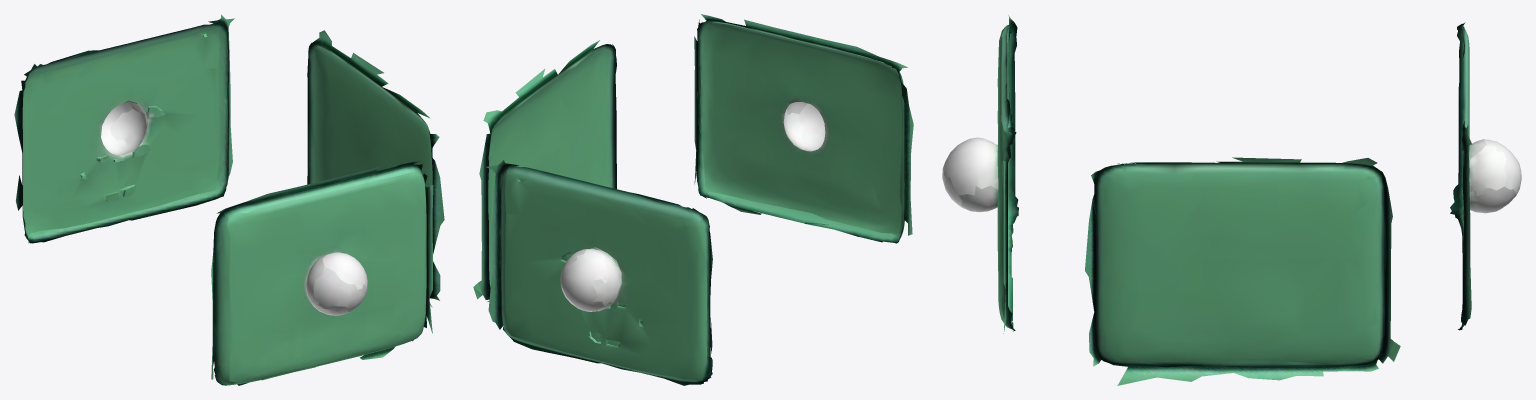
File: drawer_middle_right.glb
The picture shows the model from 3 angles, left to right: view 1: azimuth 30°, elevation 25°; view 2: azimuth 150°, elevation 25°; view 3: azimuth 270°, elevation 25°; orthographic projection. The views are drawn at different scales.
Visible parts, largest first — view 1: geometry_0; view 2: geometry_0; view 3: geometry_0.
Part boxes in pixels (box(x1,y1,x2,y2)): geometry_0: box(14, 14, 444, 385); geometry_0: box(473, 14, 913, 385); geometry_0: box(942, 15, 1521, 385).
Size of the model in its own units: 0.1219 by 0.0866 by 0.196.
1 material, 1 textured.
